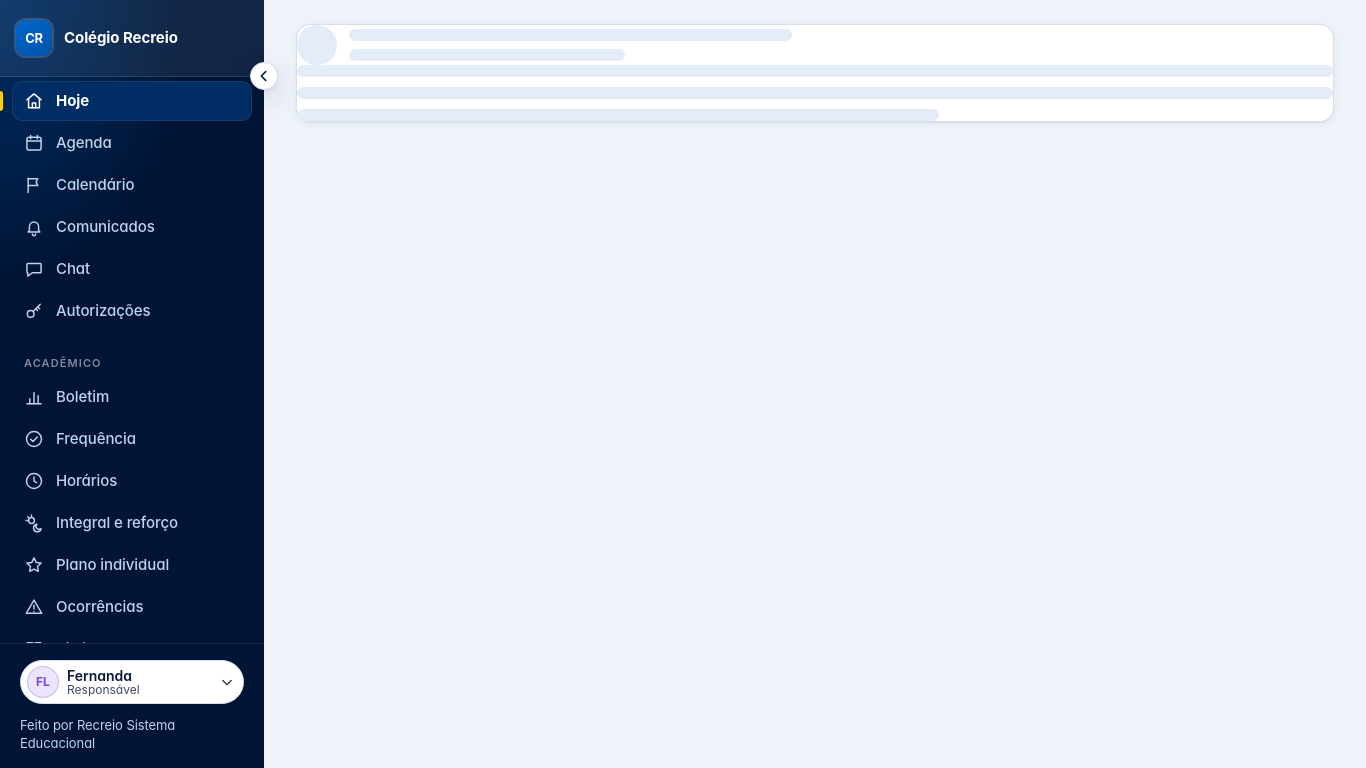
Test: sair › "Sair" no seletor de perfil encerra a sessão e volta para Entrar
Step 1. Click the button "FL Fernanda Responsável" → (132, 682), box [20,660,244,704]
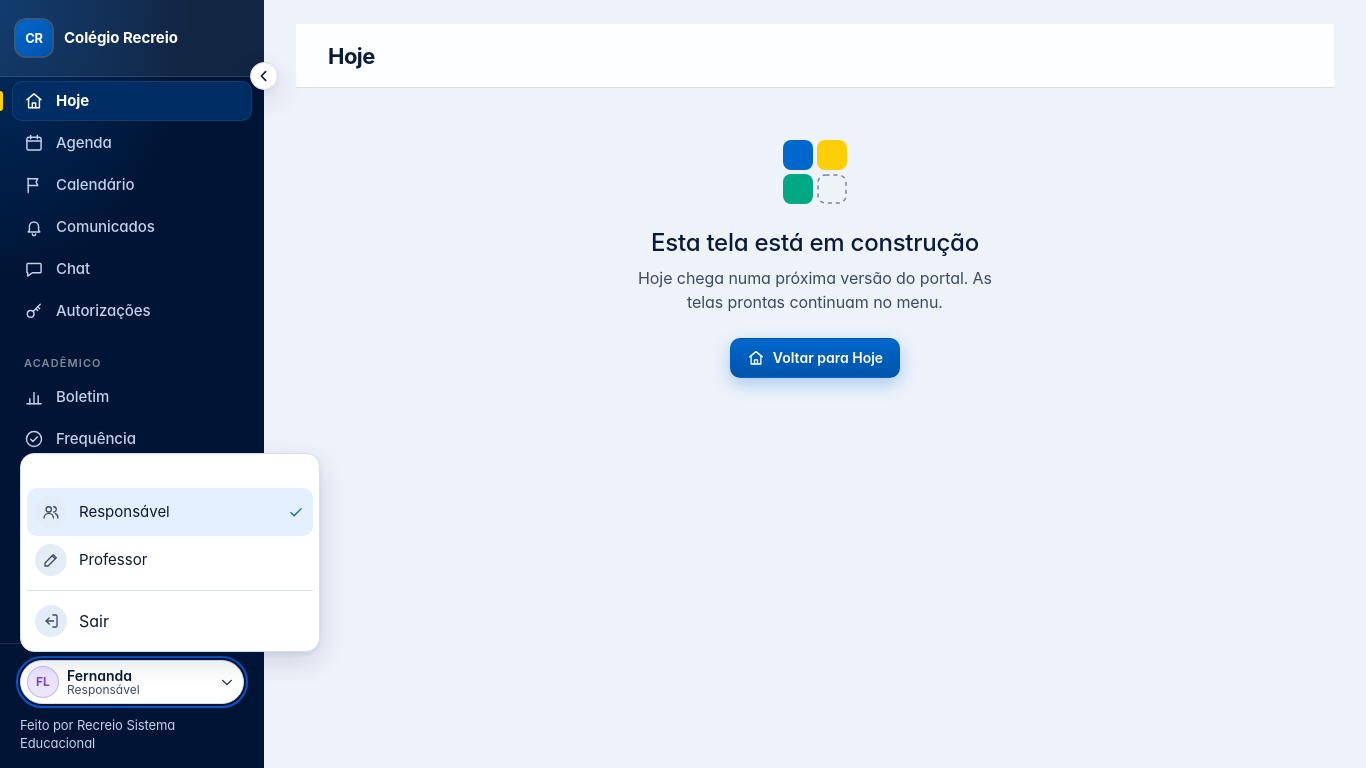
Step 2. Click the button "Sair" → (51, 621), box [27,597,313,645]
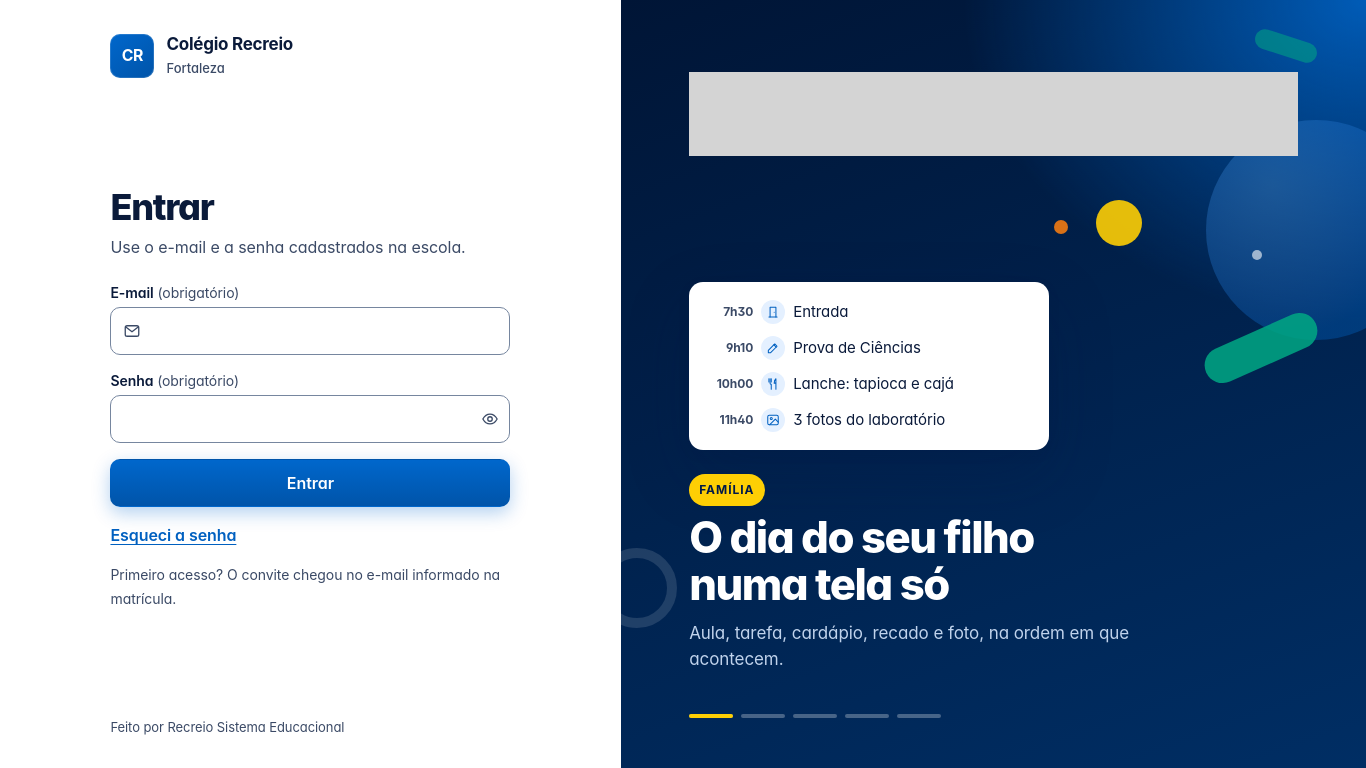
expect the heading "Entrar" is shown: met, box [110,185,214,229]
